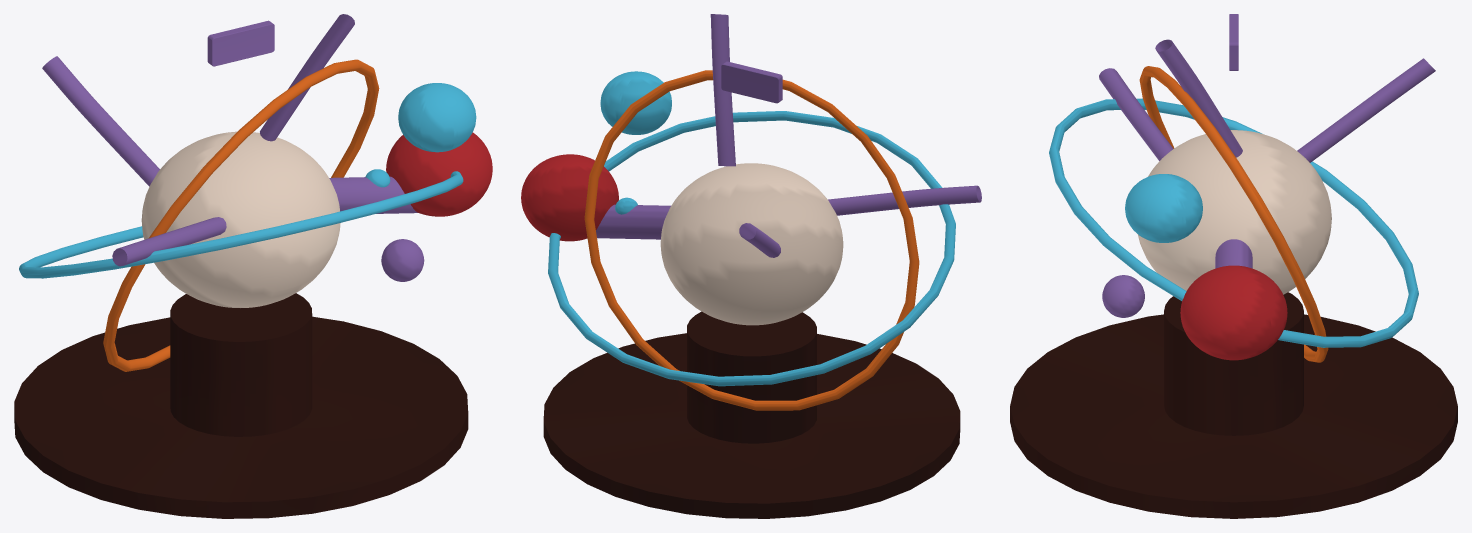
File: 0521_生活中的化学图鉴_葡萄糖.glb
3 views of the same model, side by side, from view 1: azimuth 30°, elevation 25°; view 2: azimuth 150°, elevation 25°; view 3: azimuth 270°, elevation 25° (orthographic). The views are drawn at different scales.
Parts seen in each view (by area): view 1: card_0521; view 2: card_0521; view 3: card_0521.
Boxes of the visible parts, bbox=[...] form: card_0521: bbox=[14, 14, 492, 518]; card_0521: bbox=[521, 14, 981, 518]; card_0521: bbox=[1010, 14, 1457, 518].
Bounding box in the file's own units: 1.13 × 1 × 0.9783.
